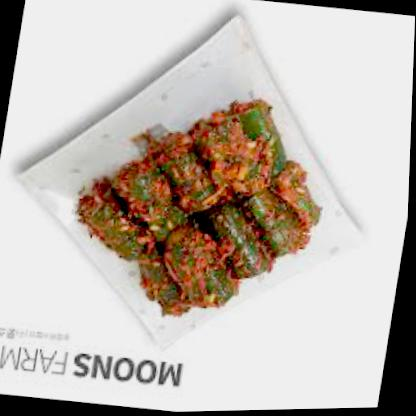cucumber kimchi: (76, 97, 325, 321)
